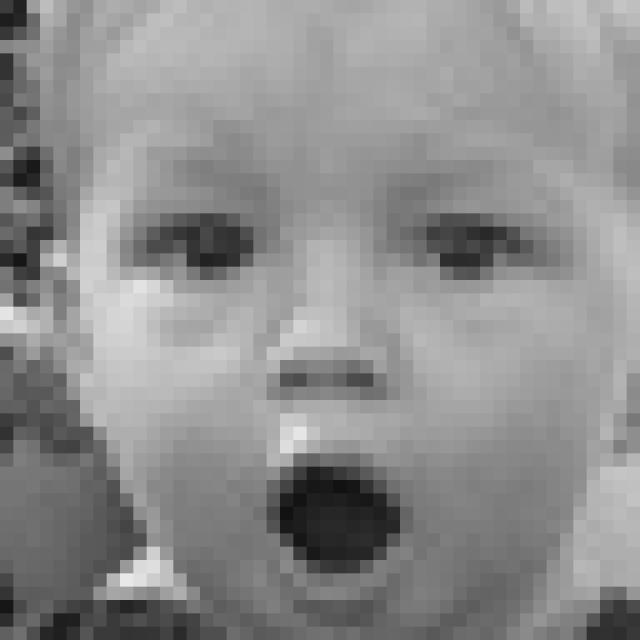surprise: (112, 157, 587, 614)
